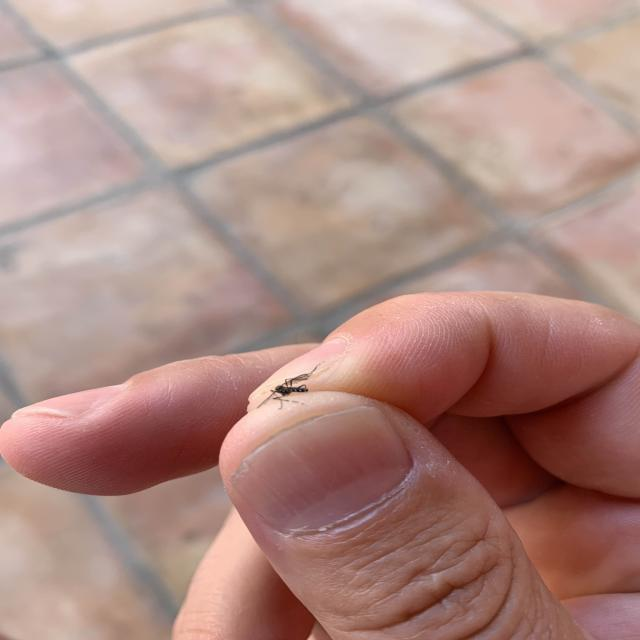albopictus: (250, 361, 321, 415)
